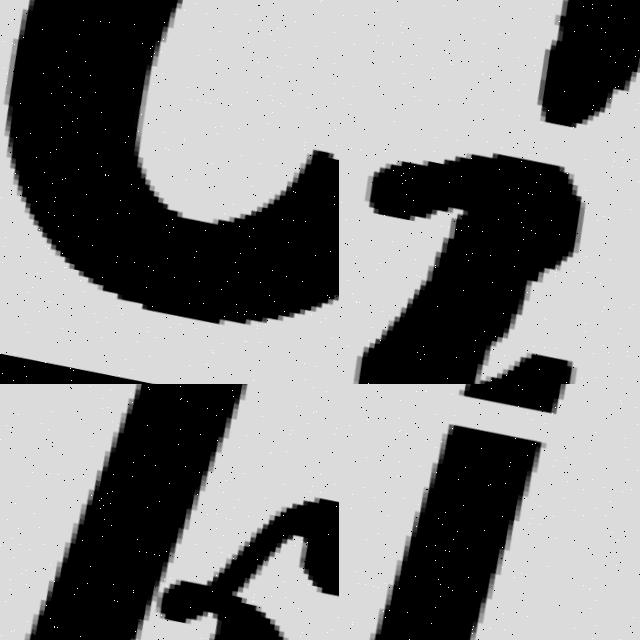C: (0, 0, 339, 329)
I: (339, 0, 640, 384)
J: (339, 384, 614, 640)
K: (0, 384, 339, 640)
